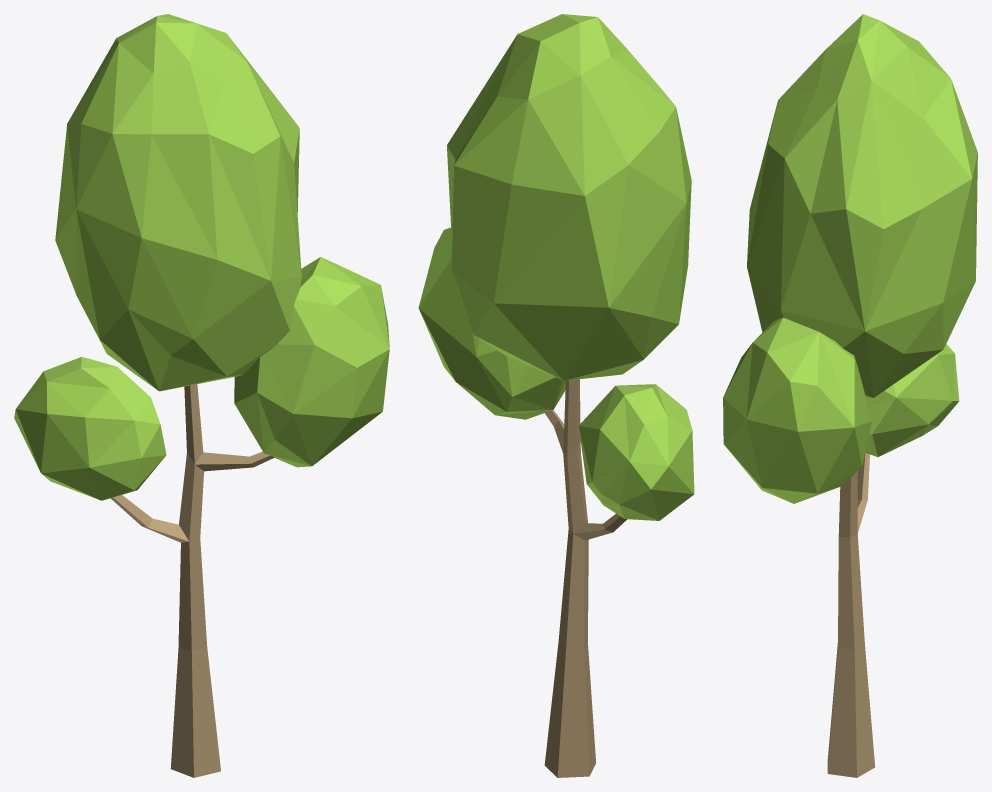
File: Random_Tree_m_09.fbx
The picture shows the model from 3 angles, left to right: view 1: azimuth 30°, elevation 25°; view 2: azimuth 150°, elevation 25°; view 3: azimuth 270°, elevation 25°; orthographic projection. The views are drawn at different scales.
Visible parts, largest first — view 1: Random_Tree_m_09; view 2: Random_Tree_m_09; view 3: Random_Tree_m_09.
Part boxes in pixels (<box>): Random_Tree_m_09: <box>14,14,389,777</box>; Random_Tree_m_09: <box>418,14,694,777</box>; Random_Tree_m_09: <box>723,14,977,777</box>.
Size of the model in its own units: 398 by 936 by 293.
